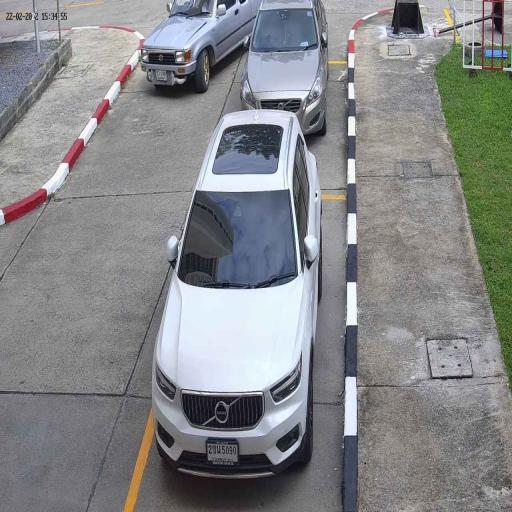car: (150, 109, 324, 481), (241, 0, 329, 136), (140, 0, 260, 92)
